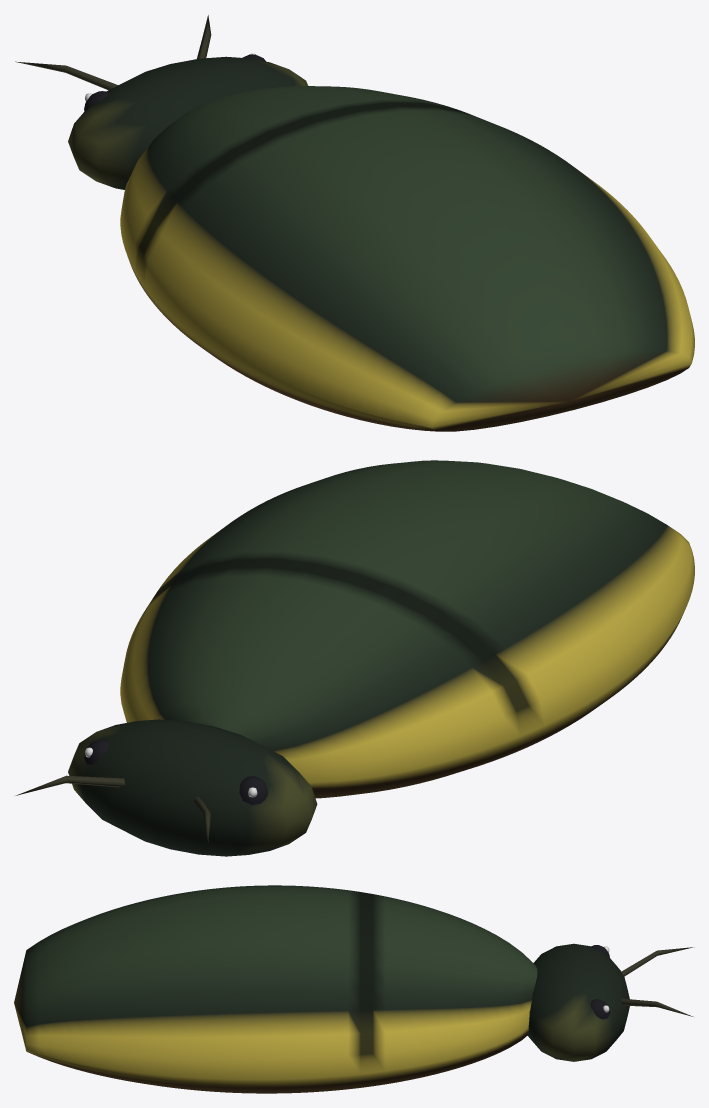
The model's file is Gengorou.fbx.
3 renders of one model, top to bottom at view 1: azimuth 30°, elevation 25°; view 2: azimuth 150°, elevation 25°; view 3: azimuth 270°, elevation 25°, orthographic. The views are drawn at different scales.
Visible parts, largest first — view 1: Gengorou; view 2: Gengorou; view 3: Gengorou.
Boxes of the visible parts, x1,y1,x2,y2 form: Gengorou: (15, 15, 694, 431); Gengorou: (15, 460, 694, 856); Gengorou: (14, 885, 694, 1093).
Bounding box in the file's own units: 0.9598 × 0.4008 × 1.8.
